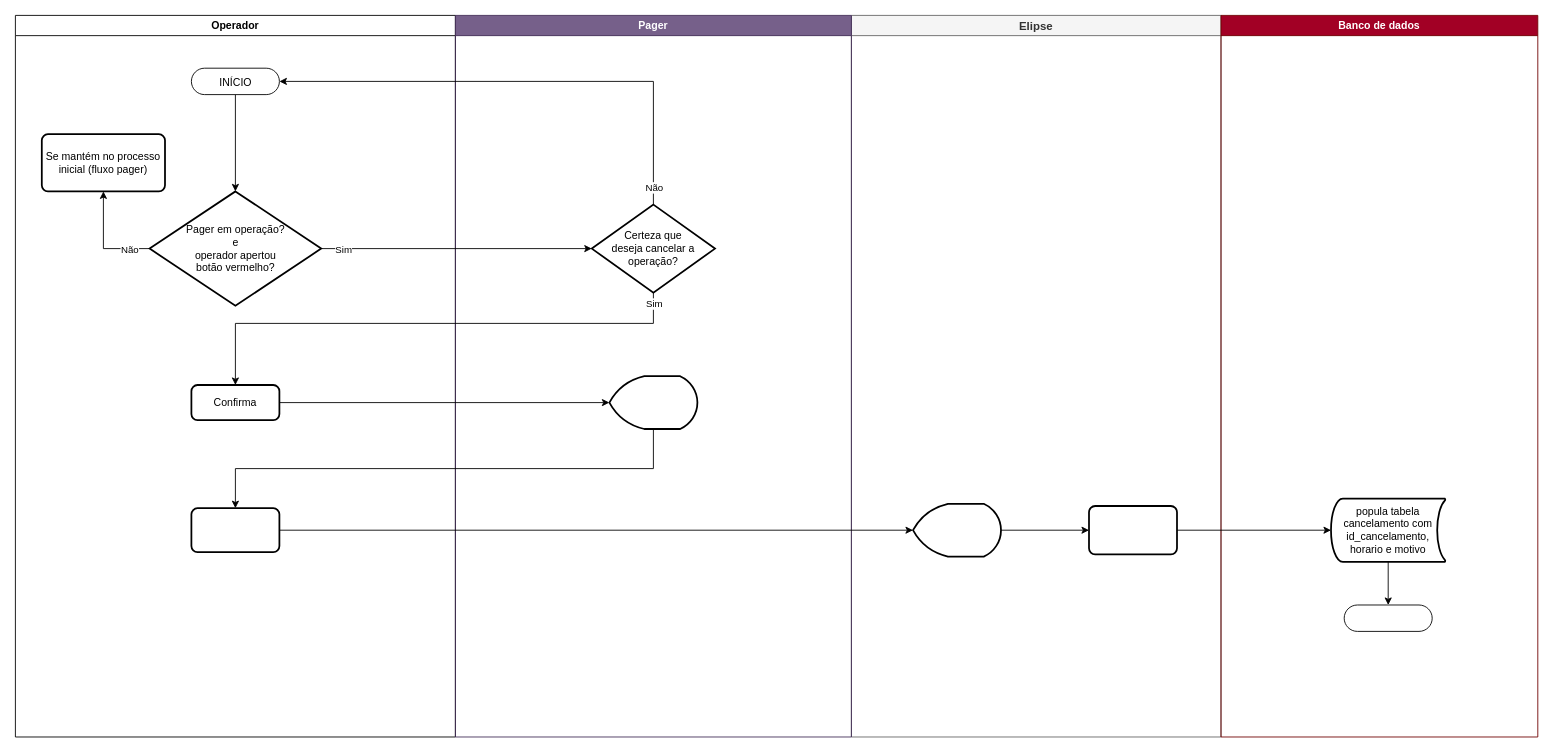
This 1553x752 diagram has some shape labels left out. Here are the shapes that lost their labels. From the top down, the centre of each, then its label:
At point 653,402: "Selecione o motivo".
At point 235,530: "Operador define o motivo".
At point 956,529: "Operação cancelada".
At point 1132,530: "volta a buscar um pager disponível (vide fluxo pager)".
At point 1387,617: "FIM".
